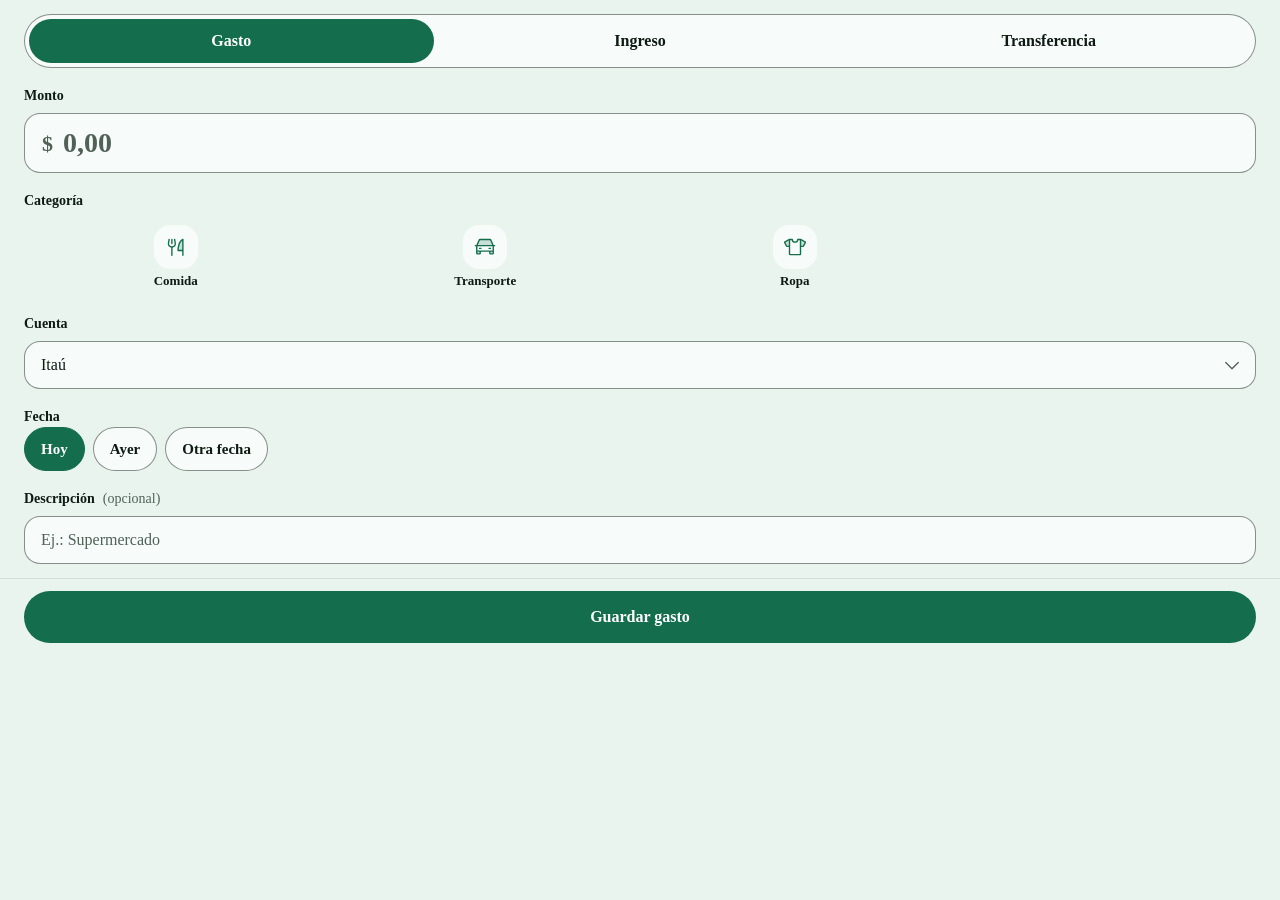
Test: changing the type › chooses 'Hacia' by itself only when there is a single possible account
Step 1. Click the radio button labelled "Transferencia" → {"x": 1049, "y": 40}, box [1001, 32, 1096, 49]
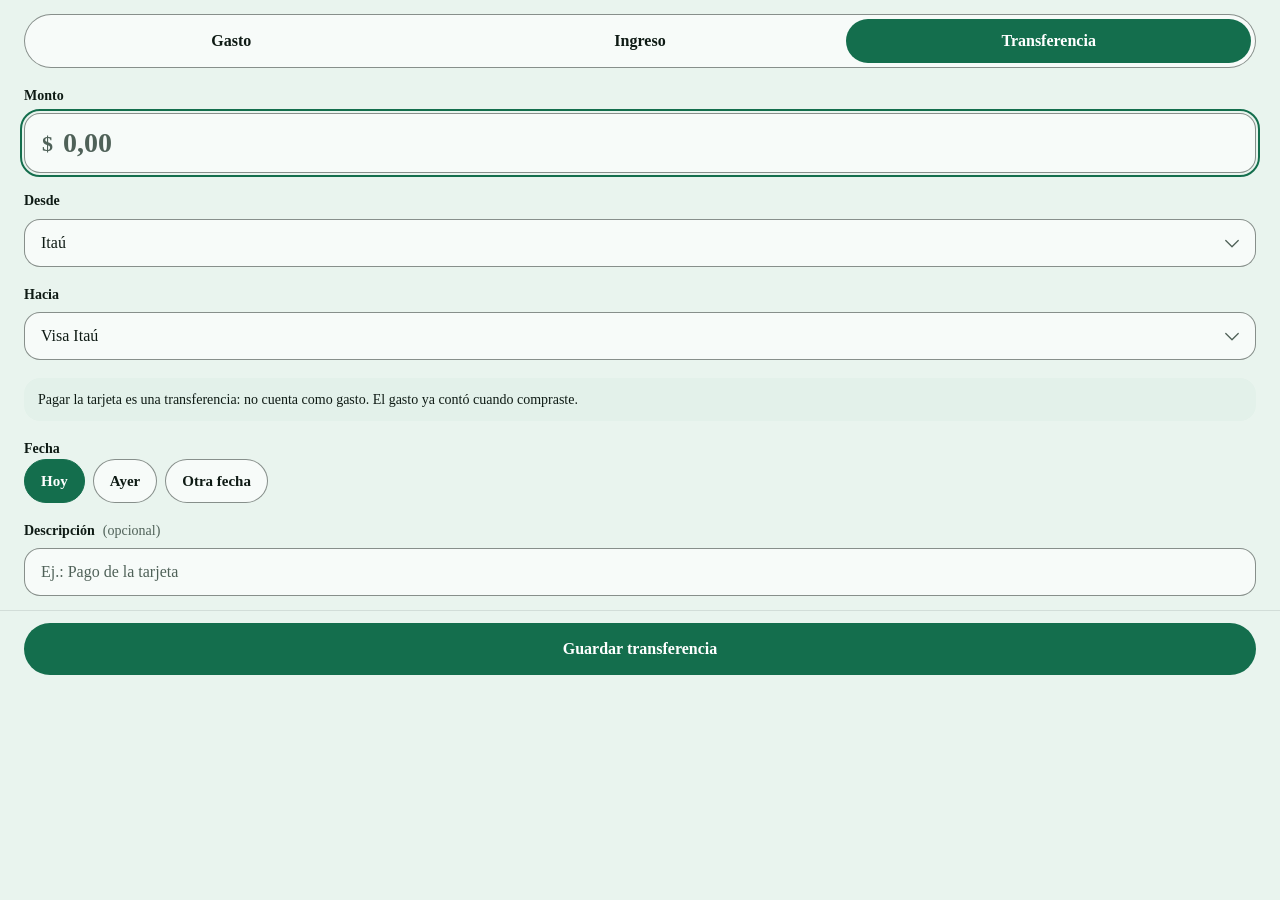
Expected: the dropdown labelled "Hacia" shows "Visa Itaú", [24, 312, 1256, 360]
